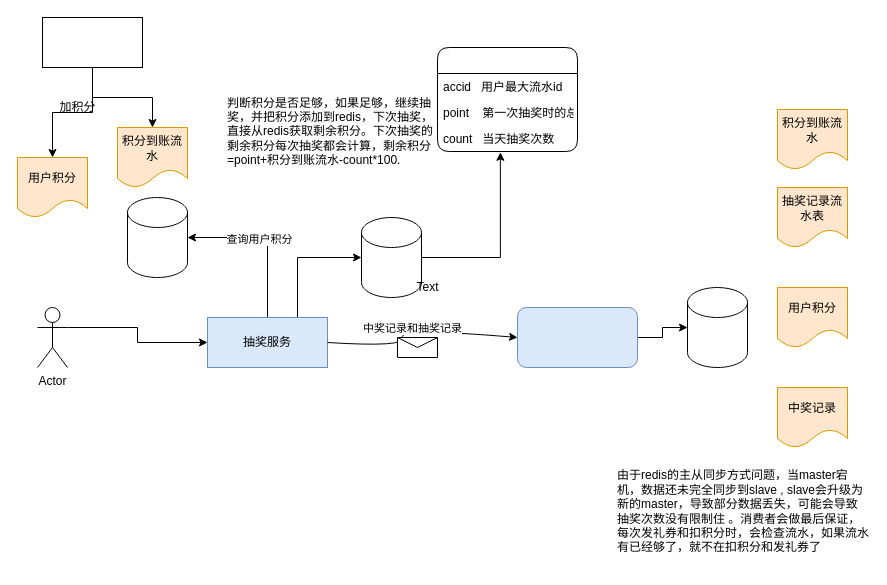
Some shapes in this 887 by 585 pixel diagram are drawn without their labels. The box of each missing label's shape, as (x1, y1, x2, y2) in pixels:
MQ消息消费服务: (516, 306, 638, 368)
redis: (360, 216, 422, 298)
UserInfo: (436, 46, 578, 152)
积分到账: (42, 16, 142, 68)
